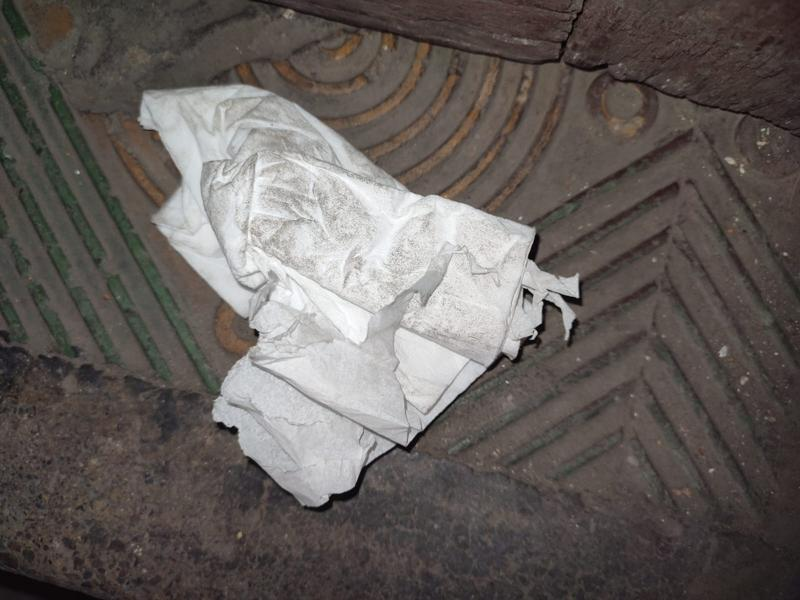papel: (136, 85, 582, 512)
